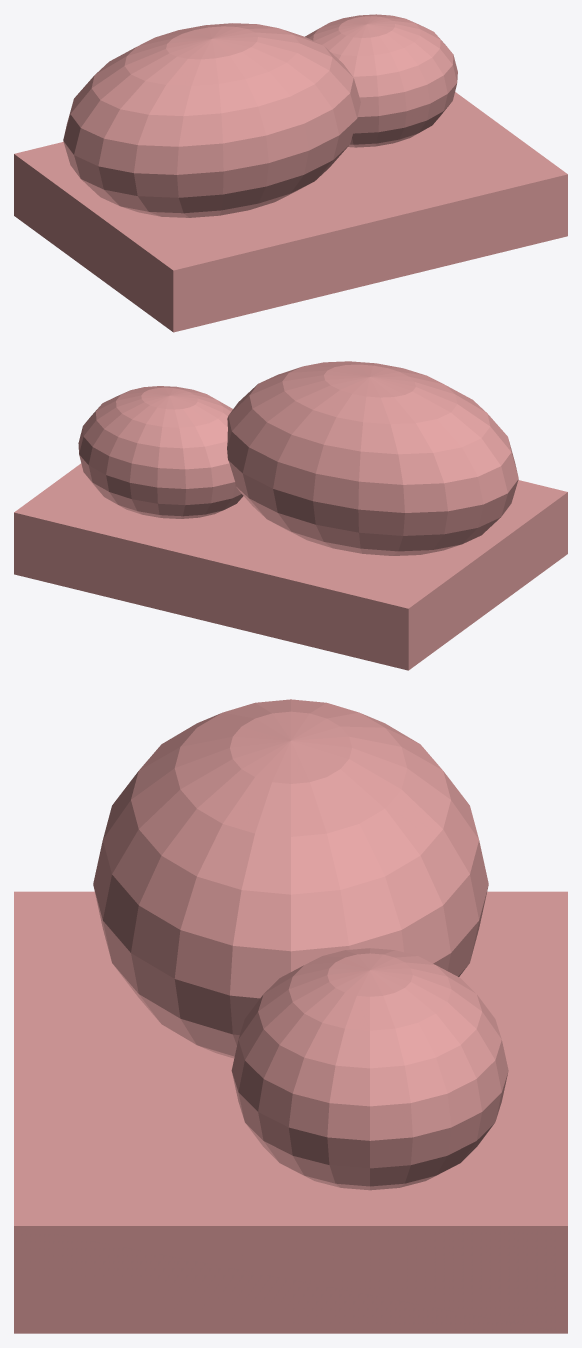
File: g_chicken.glb
3 renders of one model, top to bottom at view 1: azimuth 30°, elevation 25°; view 2: azimuth 150°, elevation 25°; view 3: azimuth 270°, elevation 25°, orthographic. The views are drawn at different scales.
Visible parts, largest first — view 1: g_chicken; view 2: g_chicken; view 3: g_chicken.
Part boxes in pixels (x1,y1,x2,y2): g_chicken: (14, 14, 567, 332); g_chicken: (14, 361, 567, 670); g_chicken: (14, 699, 567, 1333).
Bounding box in the file's own units: 0.21 × 0.1 × 0.14.
